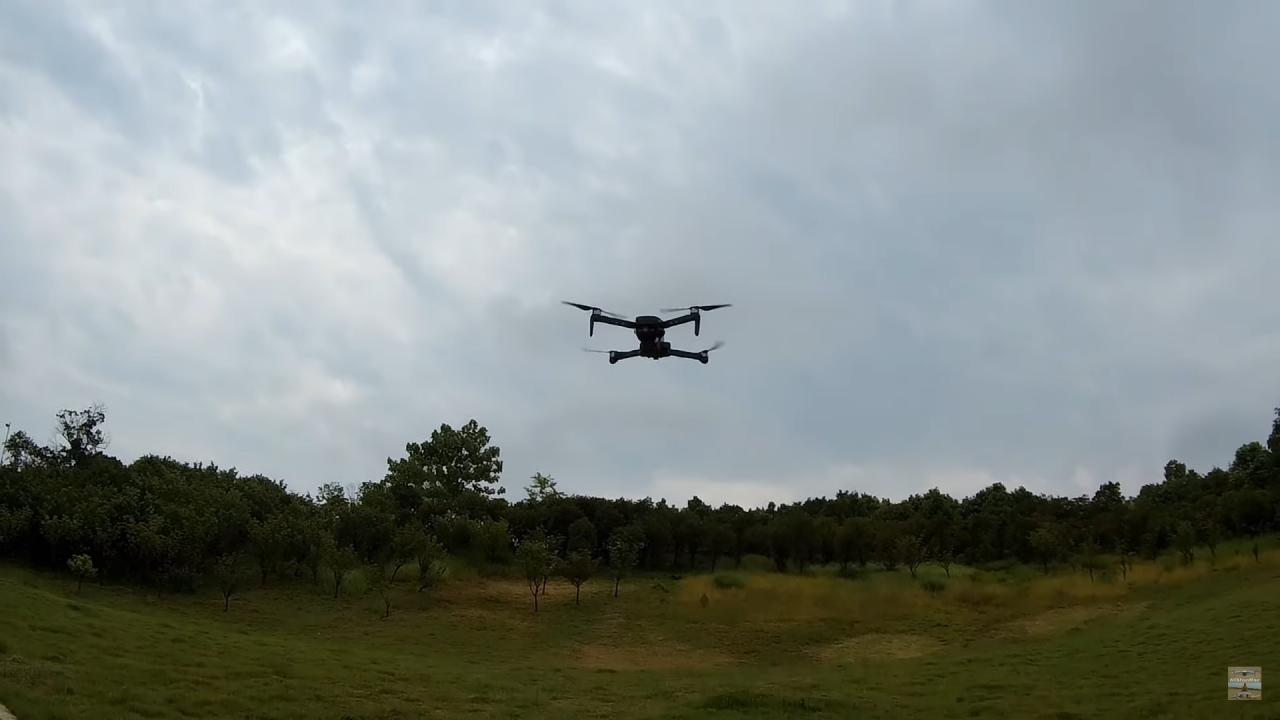Drone: (550, 290, 740, 379)
